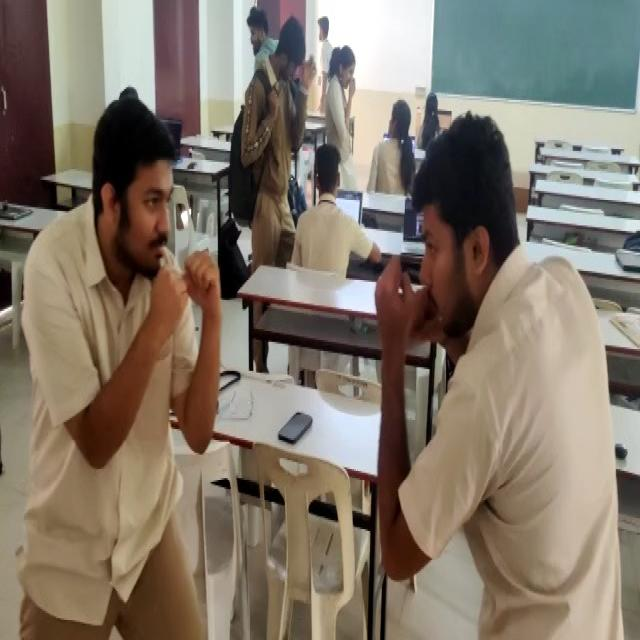fight: (22, 73, 624, 587)
